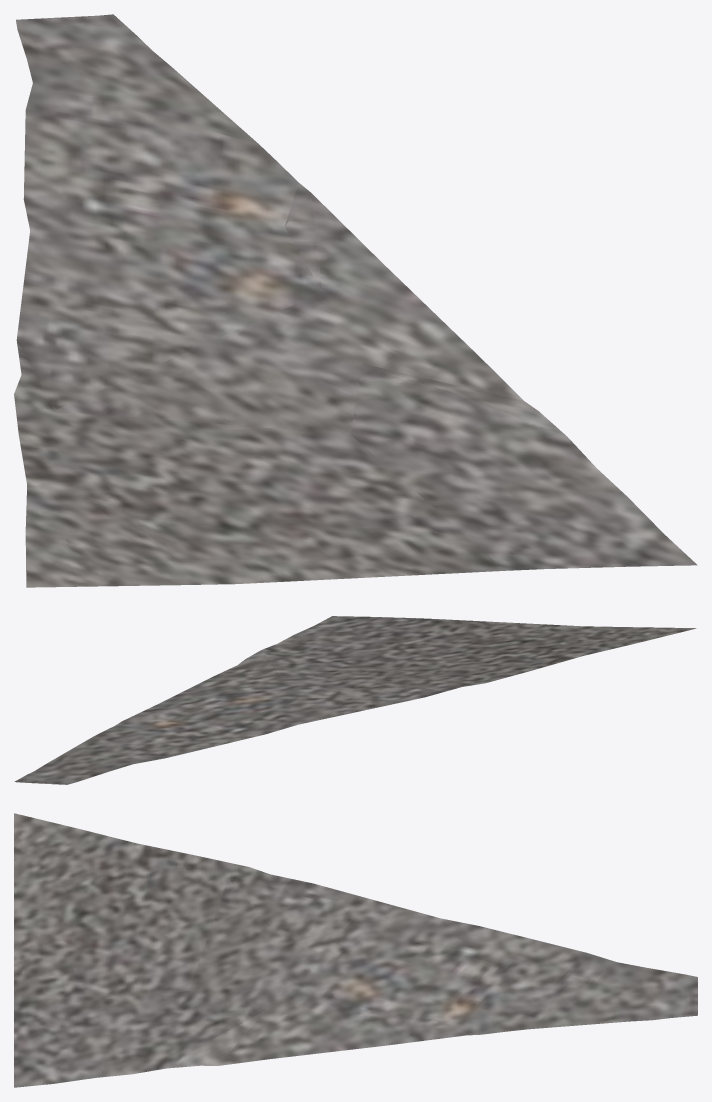
3 views of the same model, one above another, from view 1: azimuth 30°, elevation 25°; view 2: azimuth 150°, elevation 25°; view 3: azimuth 270°, elevation 25° (orthographic). The views are drawn at different scales.
Bounding box in the file's own units: 0.5555 × 0.1119 × 0.8373.
1 material, 1 textured.
